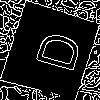D: (25, 26, 84, 75)
